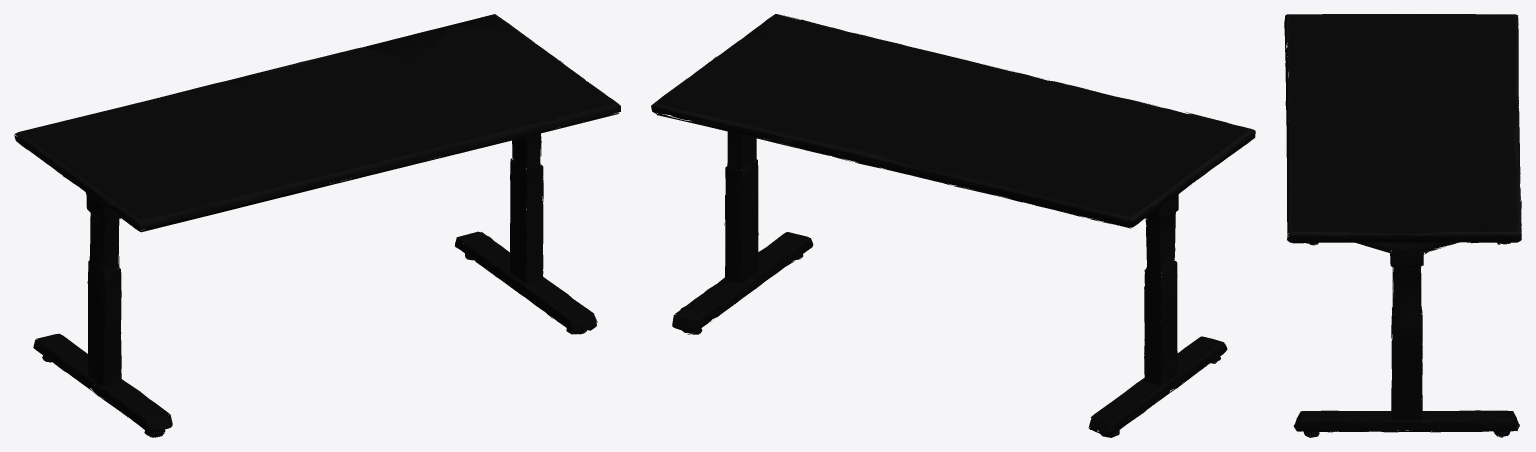
The model's file is trellis2-desk-010.glb.
3 renders of one model, left to right at view 1: azimuth 30°, elevation 25°; view 2: azimuth 150°, elevation 25°; view 3: azimuth 270°, elevation 25°, orthographic. The views are drawn at different scales.
Parts seen in each view (by area): view 1: world; view 2: world; view 3: world.
Boxes of the visible parts, x1=… form: world: x1=14, y1=14, x2=620, y2=437; world: x1=651, y1=14, x2=1255, y2=437; world: x1=1284, y1=14, x2=1521, y2=437.
Size of the model in its own units: 65.96 by 30 by 29.88.
Materials: 1 (1 with a texture image).
